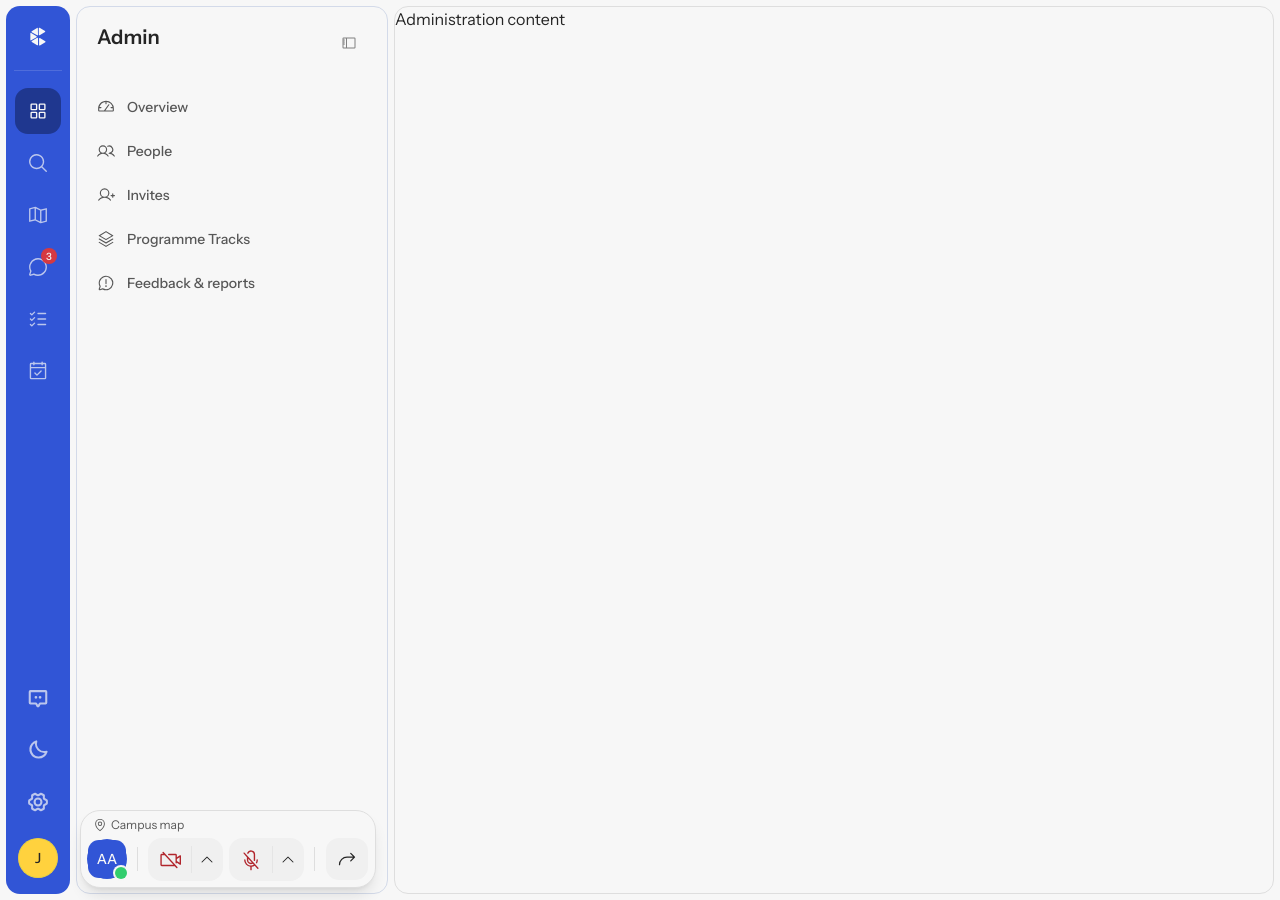
Test case: administration Campus layout › Chat restores Campus sidebar mode
This screenshot has width=1280, height=900.
Click the button named "Chat" at (38, 267), box x1=14 y1=243 x2=62 y2=291
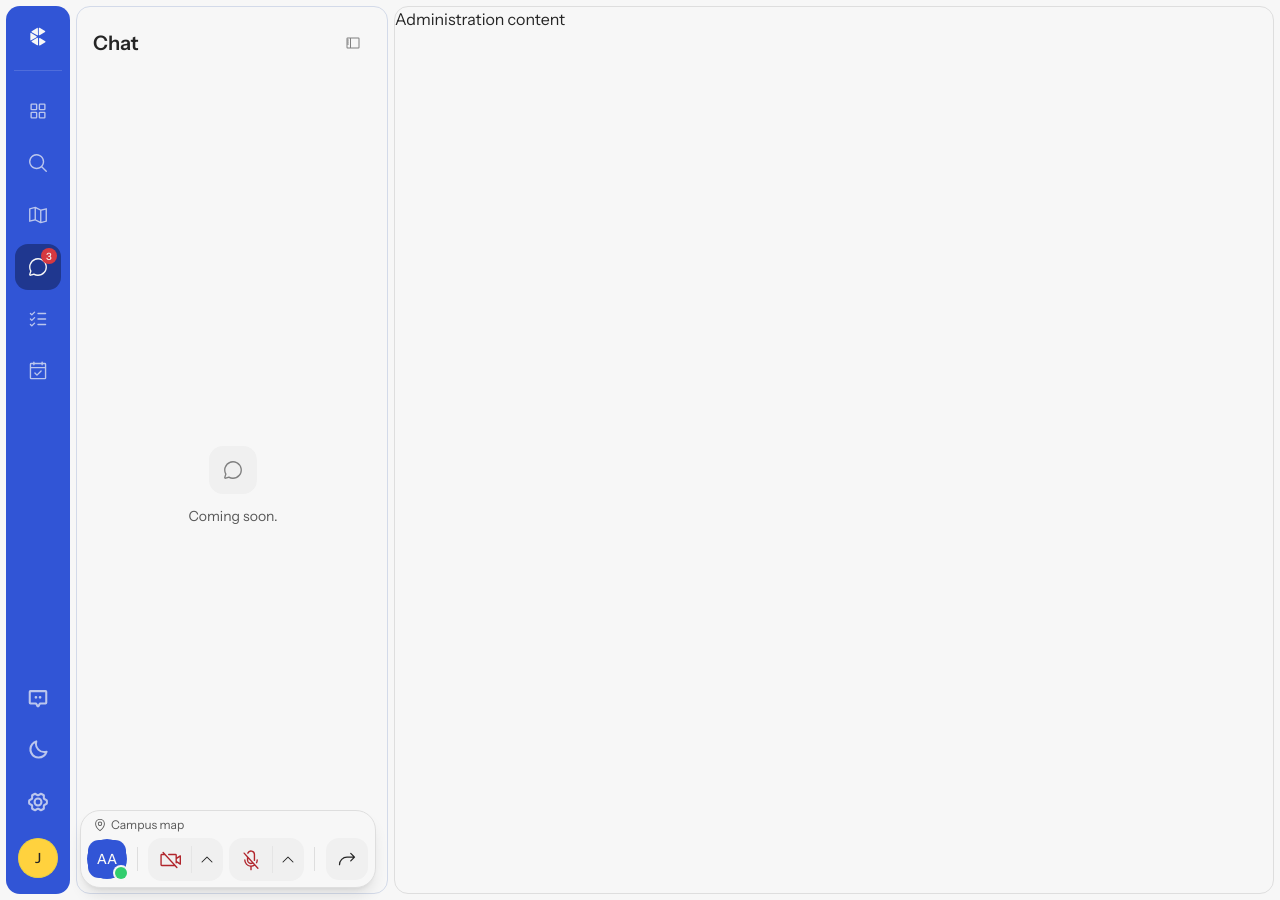
Expected: the heading "Chat" is shown, x1=93 y1=29 x2=139 y2=57
